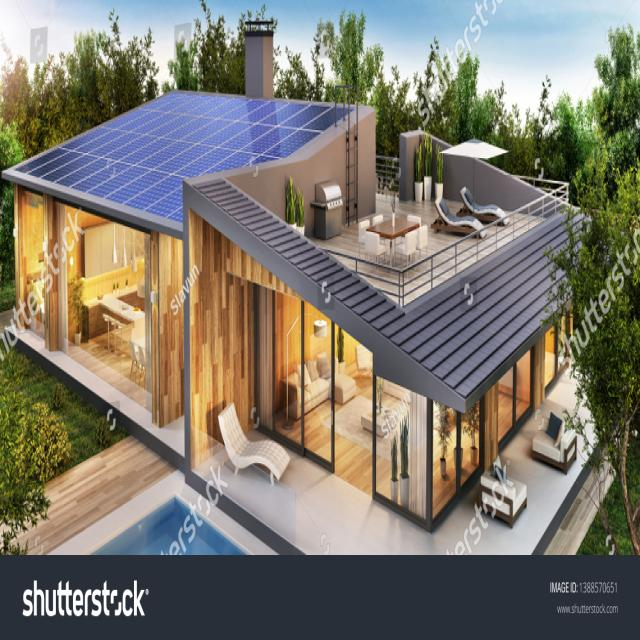clean-solar-panel: (5, 92, 335, 237)
